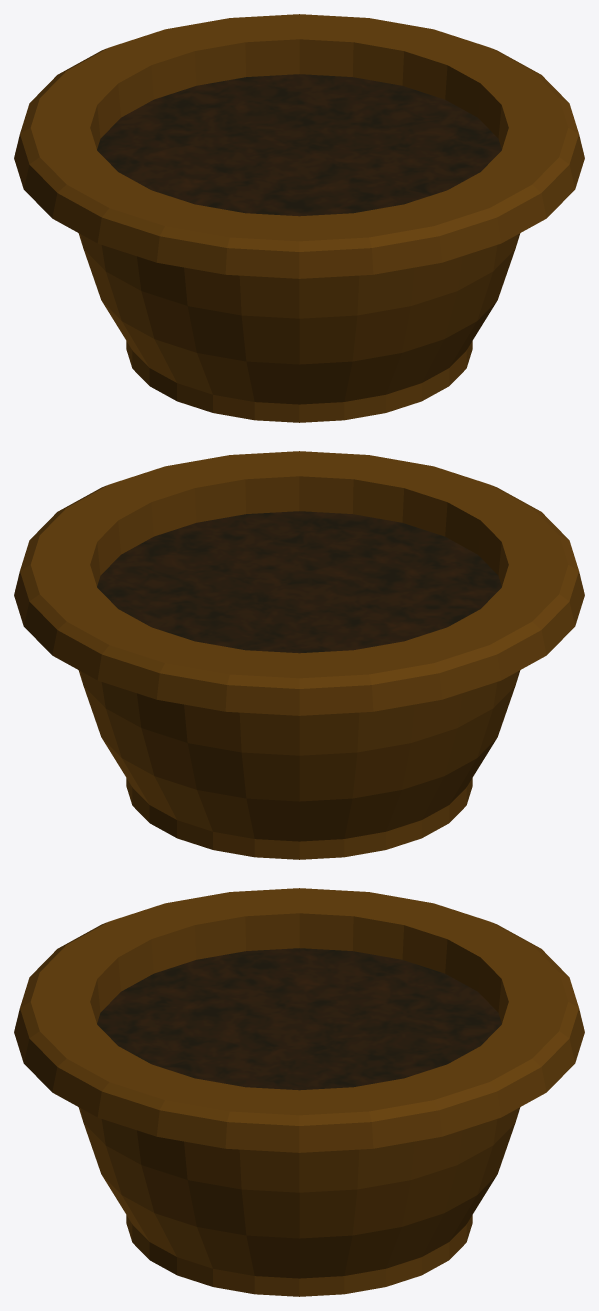
Rendered from flower_pot.glb.
3 views of the same model, one above another, from view 1: azimuth 30°, elevation 25°; view 2: azimuth 150°, elevation 25°; view 3: azimuth 270°, elevation 25° (orthographic).
Parts seen in each view (by area): view 1: Cylinder.001; view 2: Cylinder.001; view 3: Cylinder.001.
Boxes of the visible parts, x1,y1,x2,y2 form: Cylinder.001: (14,14,584,422); Cylinder.001: (14,451,584,859); Cylinder.001: (14,888,584,1296).
Bounding box in the file's own units: 2.67 × 1.15 × 2.67.
2 materials, 1 textured.
